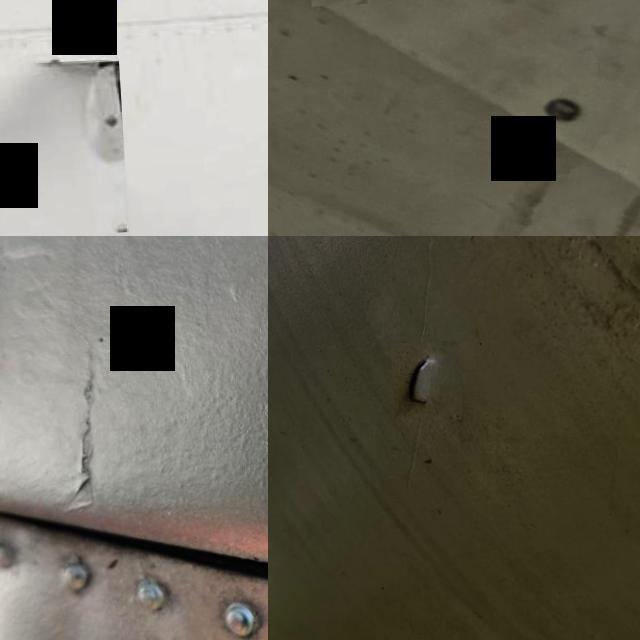Crack: (387, 345, 459, 422)
Dent: (0, 53, 118, 223)
Missing_Fastener: (528, 98, 584, 131), (308, 0, 367, 9)
